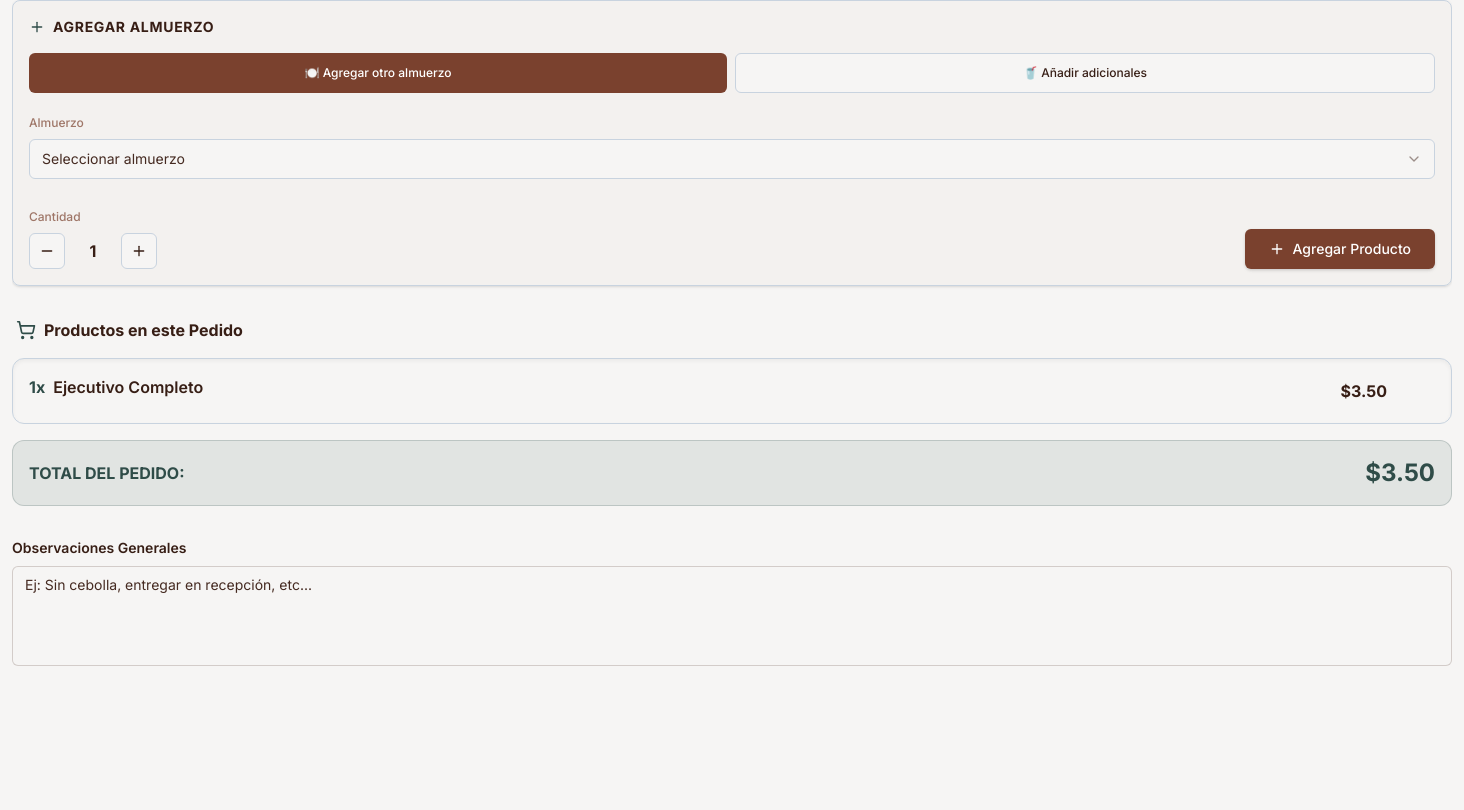
OrderFormFields › cambia el modo del formulario a adicionales (extra) cuando se hace clic en el boton correspondiente
Step 1. Click the button "🥤 Añadir adicionales" → (1085,73), box [735,53,1435,93]
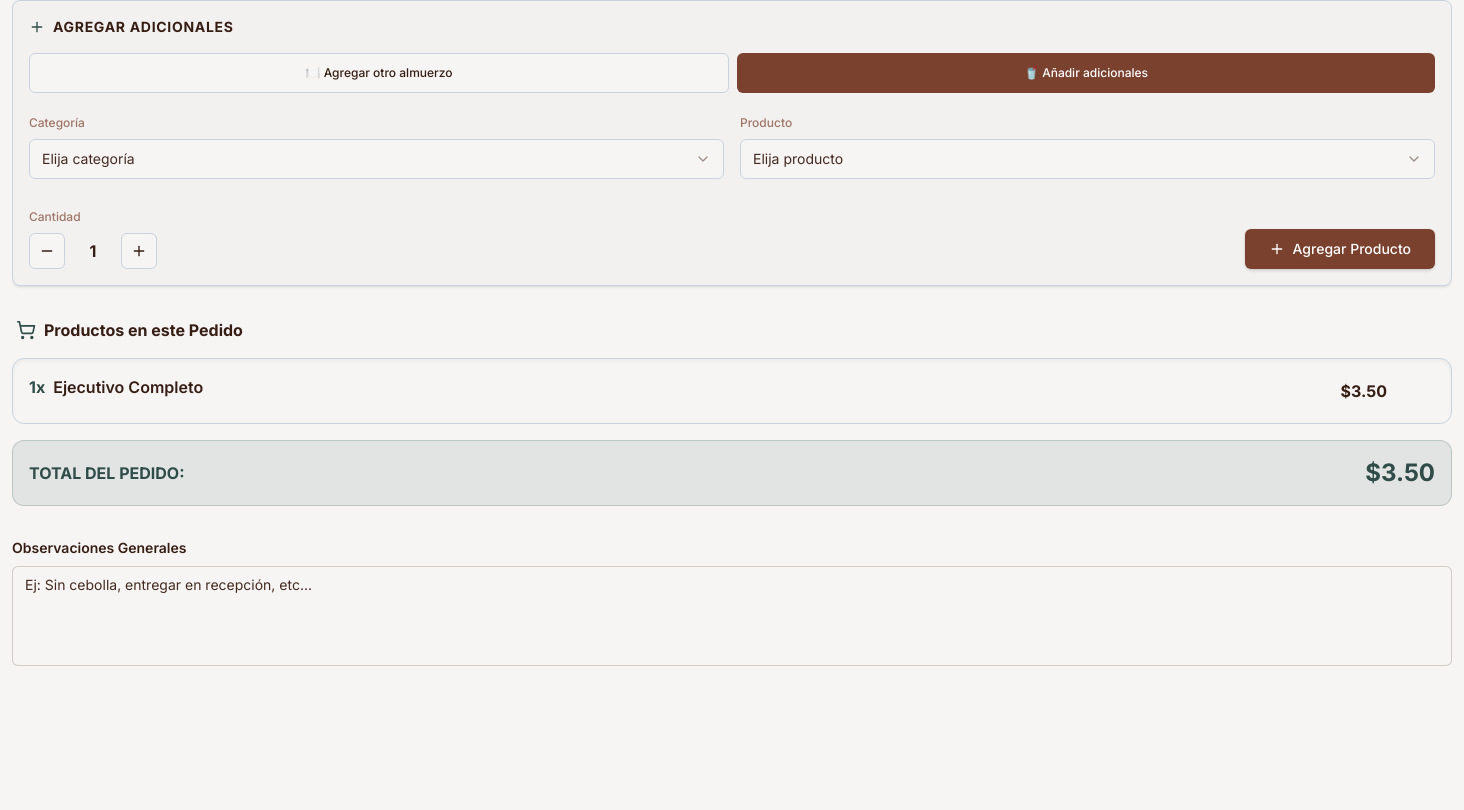
Now the text "Categoría" is shown, box [29,115,85,130]
